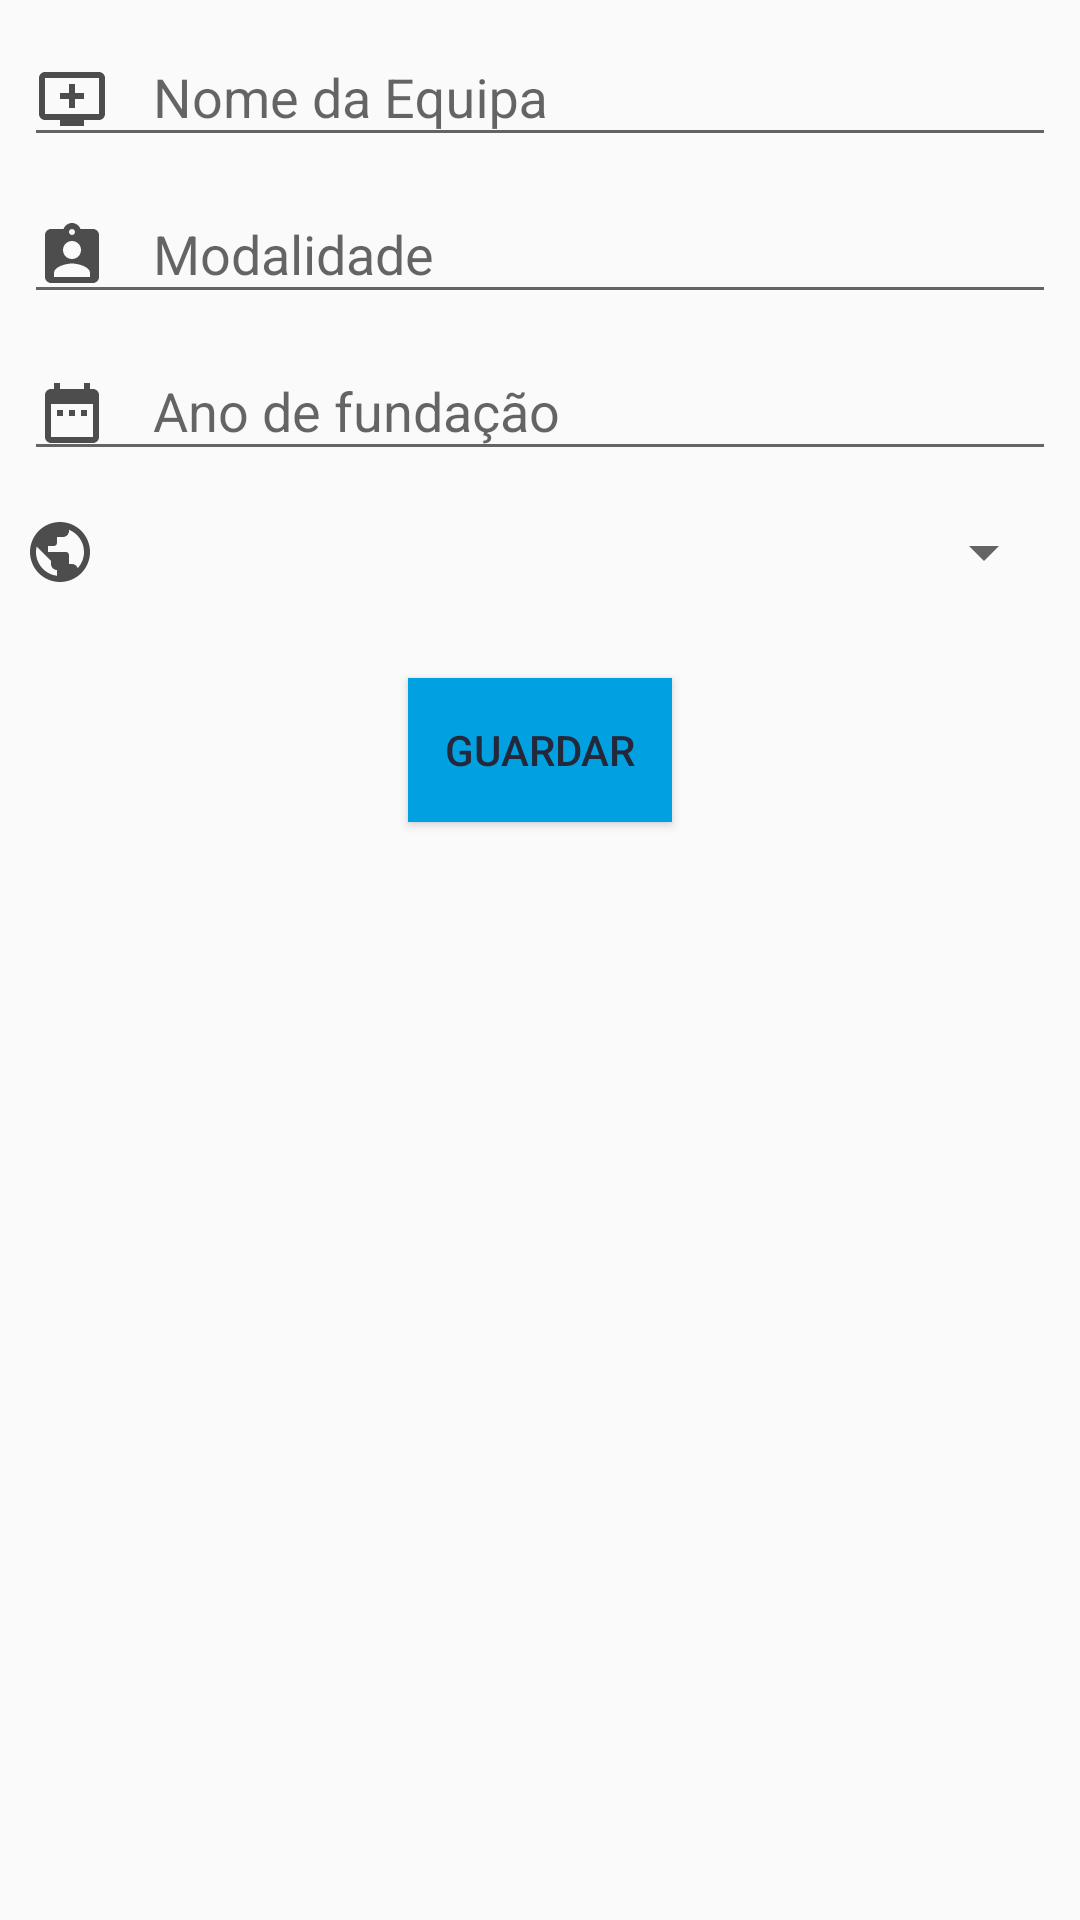

Screen size 1080×1920. Icon name, then its center in pixels as [x,y]:
public: [60,552]
